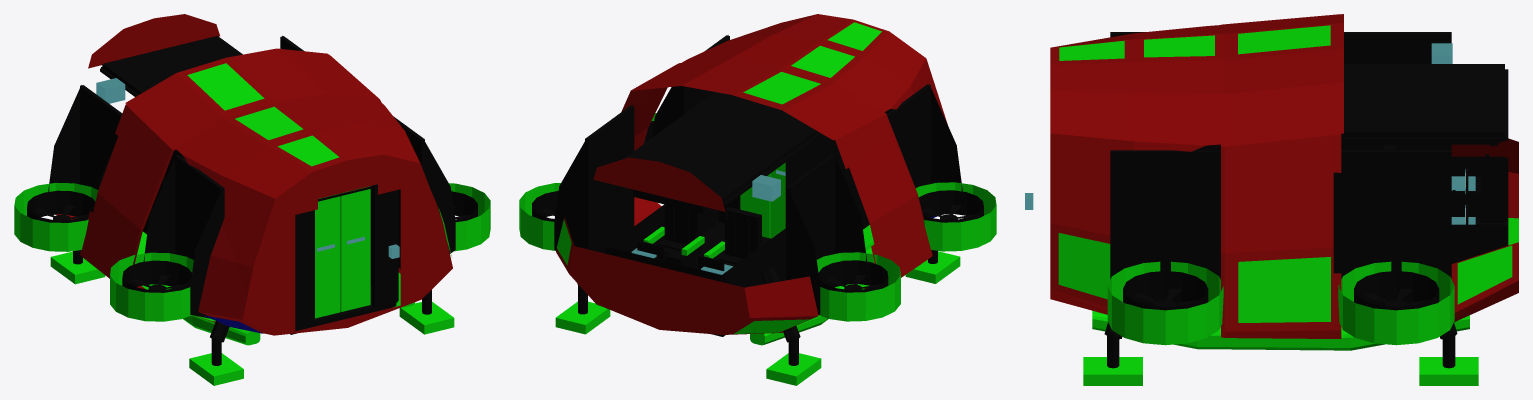
The model's file is skimmer.glb.
3 views of the same model, side by side, from view 1: azimuth 30°, elevation 25°; view 2: azimuth 150°, elevation 25°; view 3: azimuth 270°, elevation 25° (orthographic). The views are drawn at different scales.
Visible parts, largest first — view 1: expedition_skimmer:lifting_body, expedition_skimmer:fan_recess_backing_-1_1.65, expedition_skimmer:room_eva, expedition_skimmer:fan_recess_backing_-1_-1.65, expedition_skimmer:fan_housing_-1_1, expedition_skimmer:service_panels_0, expedition_skimmer:fan_housing_-1_0, expedition_skimmer:door_eva-outer_1, expedition_skimmer:ceiling_bridge, expedition_skimmer:door_eva-outer_-1, expedition_skimmer:fan_housing_1_1, expedition_skimmer:fan_recess_backing_1_1.65 (+6 smaller); view 2: expedition_skimmer:lifting_body, expedition_skimmer:ceiling_bridge, expedition_skimmer:fan_recess_backing_1_-1.65, expedition_skimmer:fan_recess_backing_-1_-1.65, expedition_skimmer:room_bridge, expedition_skimmer:fan_housing_-1_0, expedition_skimmer:fan_recess_backing_-1_1.65, expedition_skimmer:service_panels_0, expedition_skimmer:fan_housing_-1_1, expedition_skimmer:seat_1, expedition_skimmer:fan_housing_1_0, expedition_skimmer:seat_0 (+11 smaller); view 3: expedition_skimmer:lifting_body, expedition_skimmer:service_panels_0, expedition_skimmer:fan_recess_backing_1_-1.65, expedition_skimmer:fan_recess_backing_1_1.65, expedition_skimmer:ceiling_bridge, expedition_skimmer:fan_housing_1_0, expedition_skimmer:fan_housing_1_1, expedition_skimmer:room_bridge, expedition_skimmer:fan_recess_backing_-1_-1.65, expedition_skimmer:lower_skid_cheek_1, expedition_skimmer:gear_1, expedition_skimmer:gear_3 (+5 smaller).
Boxes of the visible parts, x1=… form: expedition_skimmer:lifting_body: x1=55, y1=14, x2=452, y2=335; expedition_skimmer:fan_recess_backing_-1_1.65: x1=143, y1=154, x2=224, y2=318; expedition_skimmer:room_eva: x1=290, y1=184, x2=398, y2=334; expedition_skimmer:fan_recess_backing_-1_-1.65: x1=48, y1=85, x2=122, y2=216; expedition_skimmer:fan_housing_-1_1: x1=110, y1=252, x2=193, y2=321; expedition_skimmer:service_panels_0: x1=187, y1=63, x2=451, y2=333; expedition_skimmer:fan_housing_-1_0: x1=14, y1=182, x2=98, y2=251; expedition_skimmer:door_eva-outer_1: x1=340, y1=186, x2=370, y2=311; expedition_skimmer:ceiling_bridge: x1=102, y1=36, x2=242, y2=94; expedition_skimmer:door_eva-outer_-1: x1=315, y1=193, x2=340, y2=318; expedition_skimmer:fan_housing_1_1: x1=449, y1=183, x2=490, y2=251; expedition_skimmer:fan_recess_backing_1_1.65: x1=393, y1=116, x2=455, y2=253; expedition_skimmer:lifting_body: x1=556, y1=14, x2=947, y2=334; expedition_skimmer:ceiling_bridge: x1=624, y1=92, x2=818, y2=202; expedition_skimmer:fan_recess_backing_1_-1.65: x1=554, y1=105, x2=634, y2=253; expedition_skimmer:fan_recess_backing_-1_-1.65: x1=786, y1=153, x2=866, y2=314; expedition_skimmer:room_bridge: x1=605, y1=132, x2=835, y2=336; expedition_skimmer:fan_housing_-1_0: x1=816, y1=252, x2=900, y2=321; expedition_skimmer:fan_recess_backing_-1_1.65: x1=886, y1=83, x2=962, y2=217; expedition_skimmer:service_panels_0: x1=556, y1=22, x2=937, y2=334; expedition_skimmer:fan_housing_-1_1: x1=915, y1=182, x2=996, y2=251; expedition_skimmer:seat_1: x1=643, y1=204, x2=704, y2=268; expedition_skimmer:fan_housing_1_0: x1=519, y1=183, x2=560, y2=250; expedition_skimmer:seat_0: x1=704, y1=207, x2=761, y2=266; expedition_skimmer:lifting_body: x1=1050, y1=14, x2=1518, y2=338; expedition_skimmer:service_panels_0: x1=1058, y1=25, x2=1512, y2=322; expedition_skimmer:fan_recess_backing_1_-1.65: x1=1341, y1=150, x2=1451, y2=305; expedition_skimmer:fan_recess_backing_1_1.65: x1=1110, y1=150, x2=1220, y2=305; expedition_skimmer:ceiling_bridge: x1=1341, y1=64, x2=1504, y2=137; expedition_skimmer:fan_housing_1_0: x1=1338, y1=261, x2=1454, y2=345; expedition_skimmer:fan_housing_1_1: x1=1107, y1=261, x2=1223, y2=345; expedition_skimmer:room_bridge: x1=1333, y1=69, x2=1508, y2=273; expedition_skimmer:fan_recess_backing_-1_-1.65: x1=1344, y1=32, x2=1451, y2=150; expedition_skimmer:lower_skid_cheek_1: x1=1092, y1=310, x2=1469, y2=350; expedition_skimmer:gear_1: x1=1419, y1=330, x2=1478, y2=385; expedition_skimmer:gear_3: x1=1083, y1=330, x2=1142, y2=385.
Bounding box in the file's own units: 7.36 × 4.2 × 7.06.
